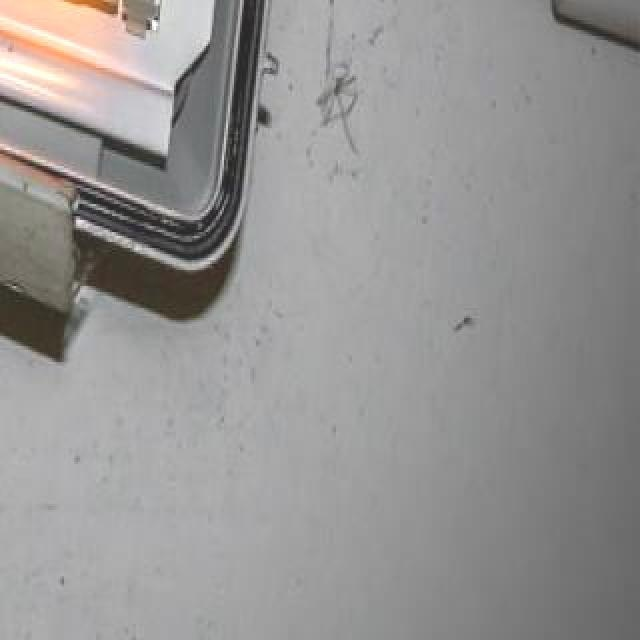fluorescent tube: (0, 0, 208, 58)
